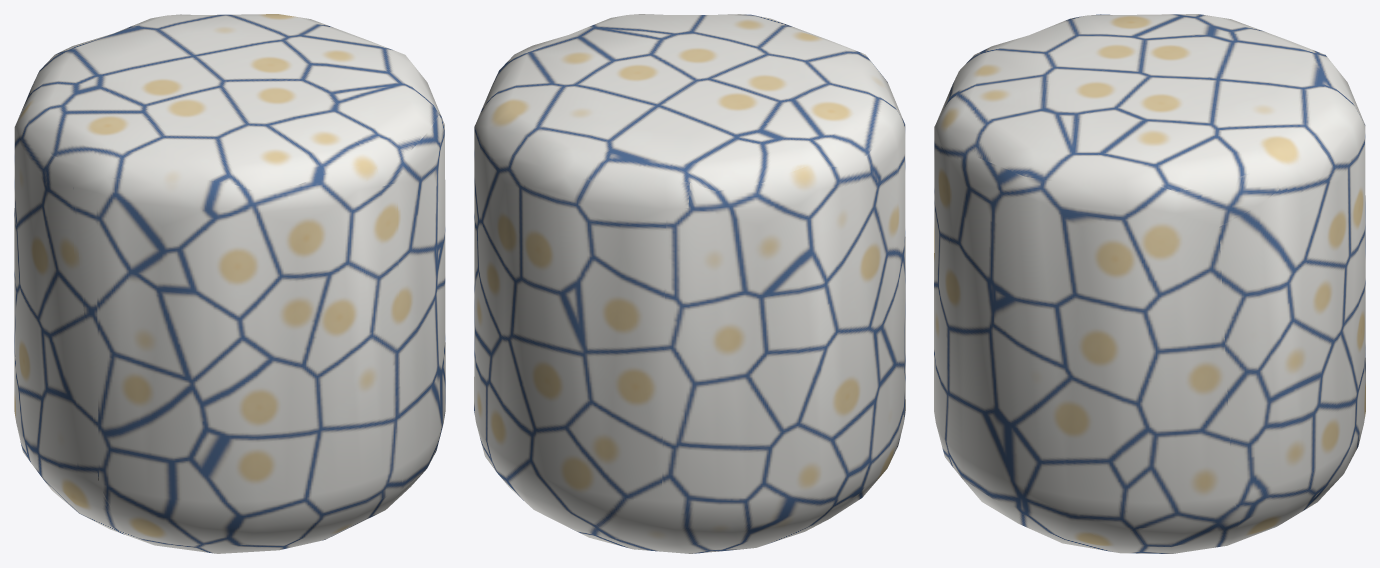
The model's file is rock_c.glb.
3 views of the same model, side by side, from view 1: azimuth 30°, elevation 25°; view 2: azimuth 150°, elevation 25°; view 3: azimuth 270°, elevation 25° (orthographic).
Visible parts, largest first — view 1: Rock; view 2: Rock; view 3: Rock.
Boxes of the visible parts, x1,y1,x2,y2 form: Rock: (14, 14, 445, 553); Rock: (474, 14, 905, 553); Rock: (934, 14, 1365, 553).
Bounding box in the file's own units: 1.99 × 2.24 × 1.98.
Materials: 1 (1 with a texture image).
